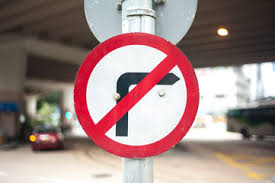No_right_turn: (73, 32, 200, 158)
